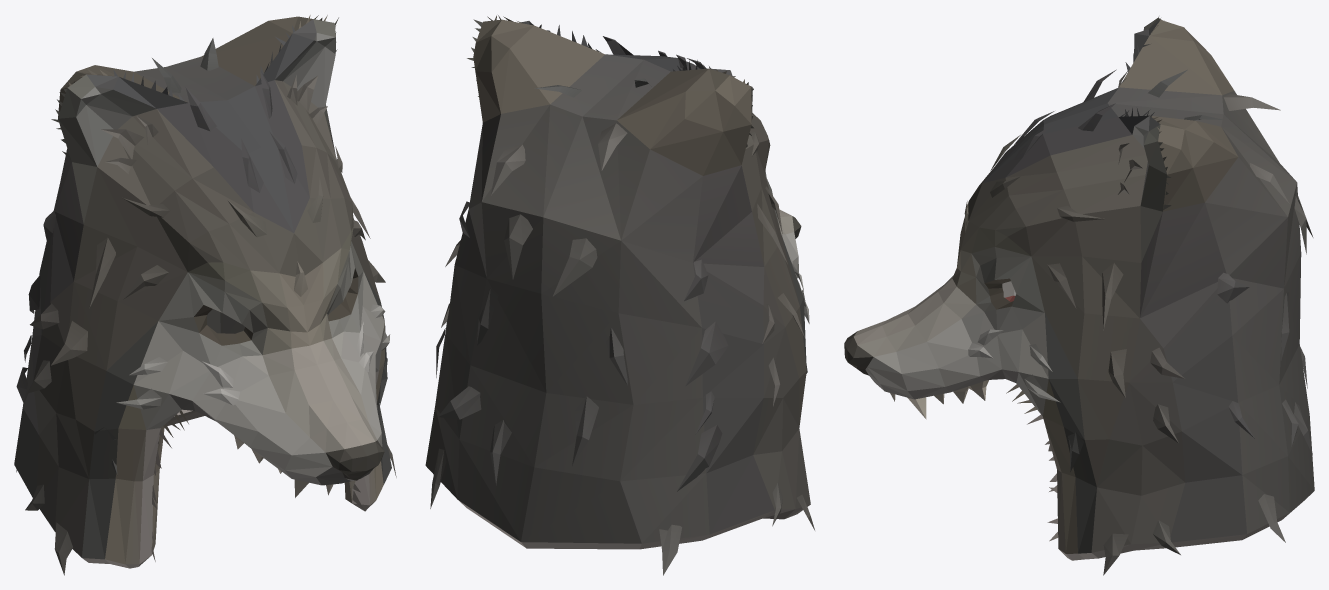
File: vikingArmorWolf.glb
3 renders of one model, left to right at view 1: azimuth 30°, elevation 25°; view 2: azimuth 150°, elevation 25°; view 3: azimuth 270°, elevation 25°, orthographic. The views are drawn at different scales.
Visible parts, largest first — view 1: vikingArmorWolf; view 2: vikingArmorWolf; view 3: vikingArmorWolf.
Part boxes in pixels (x1,y1,x2,y2): vikingArmorWolf: (14,15,396,575); vikingArmorWolf: (425,15,814,575); vikingArmorWolf: (844,17,1314,575).
Size of the model in its own units: 0.3598 by 0.4797 by 0.4605.
